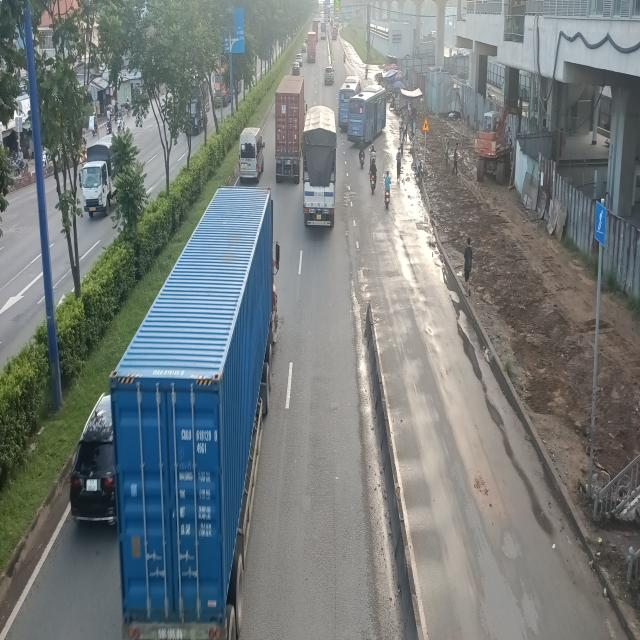coach: (350, 90, 389, 145), (338, 74, 361, 130)
container: (114, 191, 276, 640), (276, 75, 308, 184)
truck: (304, 108, 339, 231)
van: (240, 128, 266, 182)
